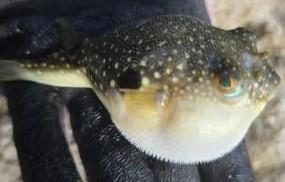fish: (0, 15, 279, 162)
